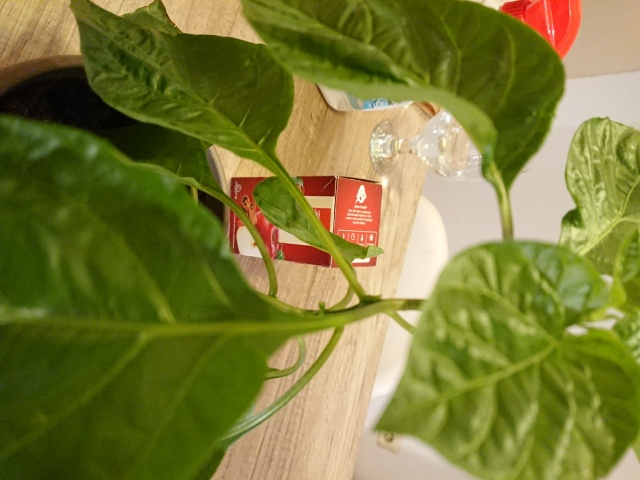Franck Apple Cinnamon Tea 60g: (225, 172, 386, 271)
